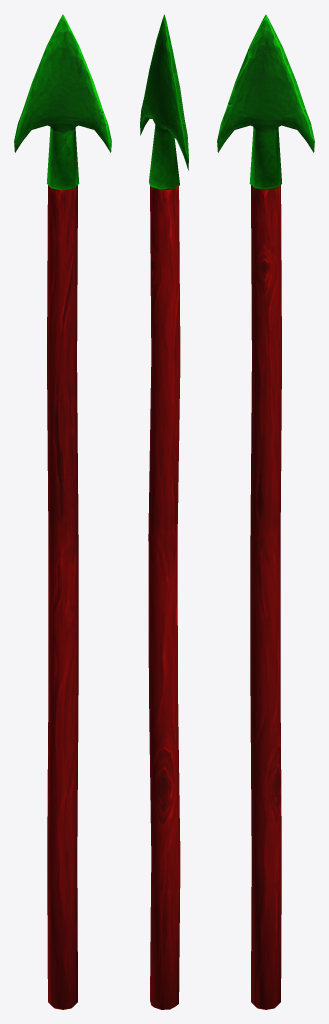
Rendered from Harpoon01.fbx.
3 renders of one model, left to right at view 1: azimuth 90°, elevation 25°; view 2: azimuth 210°, elevation 25°; view 3: azimuth 270°, elevation 25°, orthographic.
Visible parts, largest first — view 1: Harpoon01_LOD0; view 2: Harpoon01_LOD0; view 3: Harpoon01_LOD0.
Part boxes in pixels (x1,y1,x2,y2): Harpoon01_LOD0: (14, 14, 111, 1009); Harpoon01_LOD0: (140, 14, 188, 1009); Harpoon01_LOD0: (217, 14, 314, 1009).
Size of what is drawn, in the model's own units: 0.0354 by 1.19 by 0.106.
